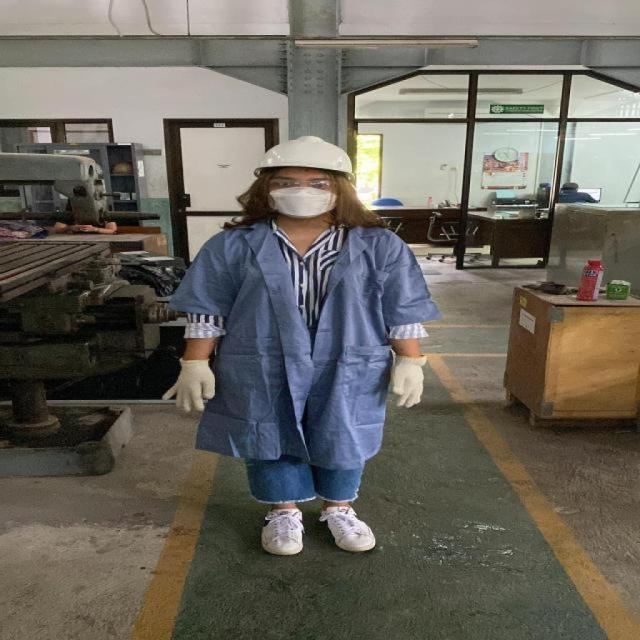Gloves-Detection: (168, 354, 210, 413), (397, 358, 428, 406)
